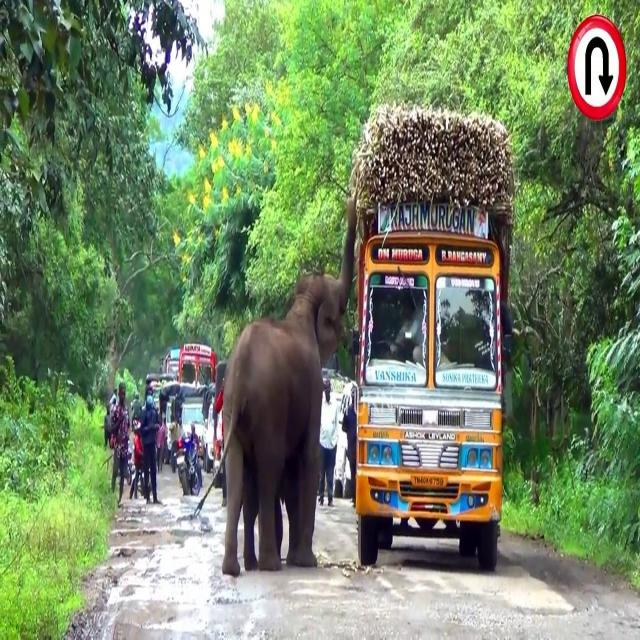Elephant: (220, 197, 358, 579)
